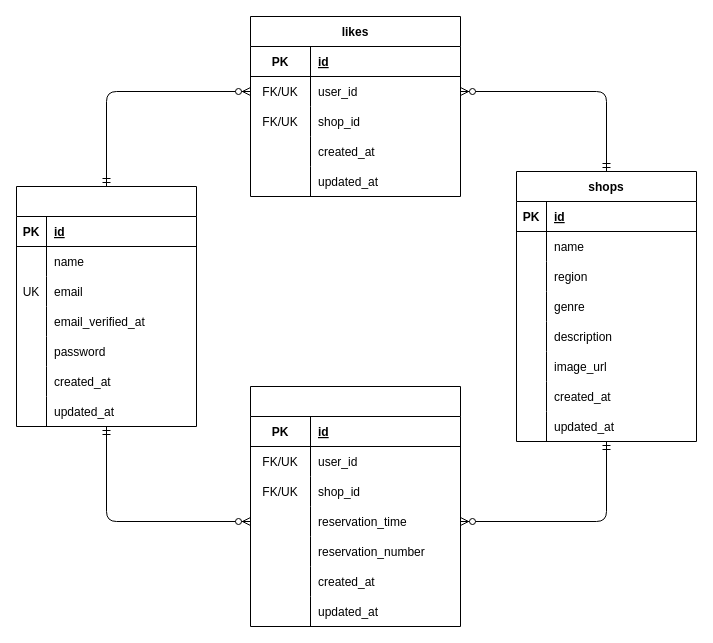
Some shapes in this 713 by 643 pixel diagram are drawn without their labels. The shapes that lost their labels are listed below. From the top down, each one's box as (x1, y1, x2, y2) in pixels, then its label:
(16, 186, 196, 426): users
(250, 386, 460, 626): reservations
